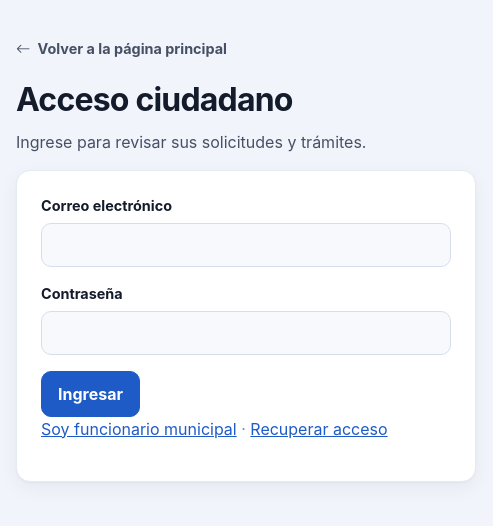
Test: LoginPage - citizen › valida campos vacios
Click the button "Ingresar": (90, 394) [41,371,140,417]
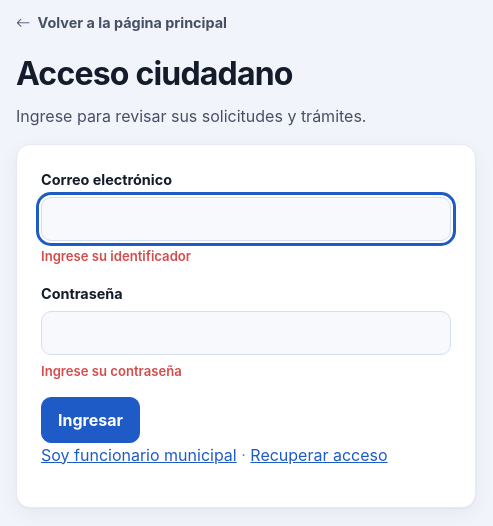
Expected: the text "Ingrese su identificador" is shown, [41,248,191,264]
Expected: the text "Ingrese su contraseña" is shown, [41,363,182,379]
